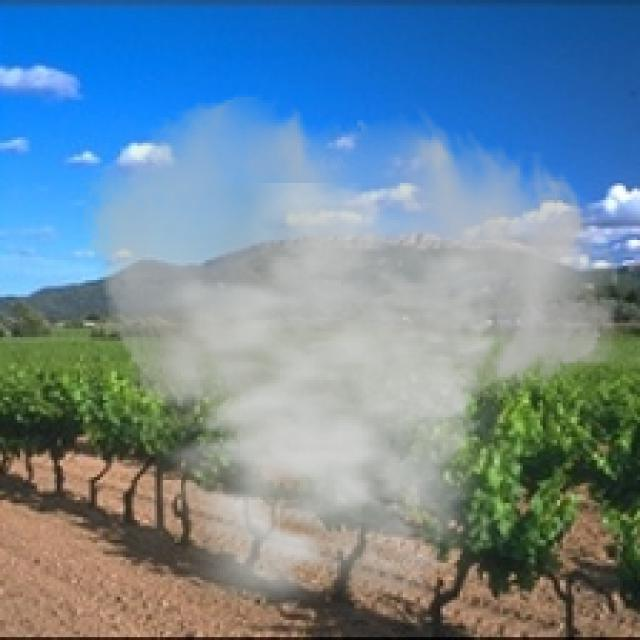Smoke: (77, 92, 626, 638)
